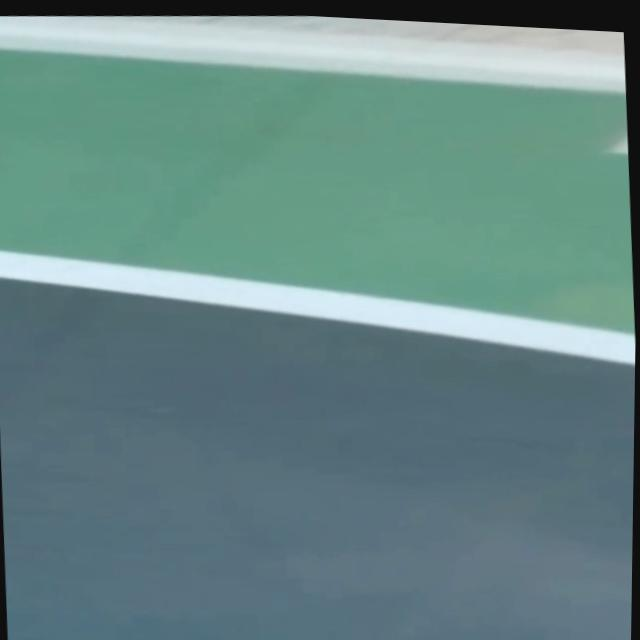right: (0, 252, 635, 366)
